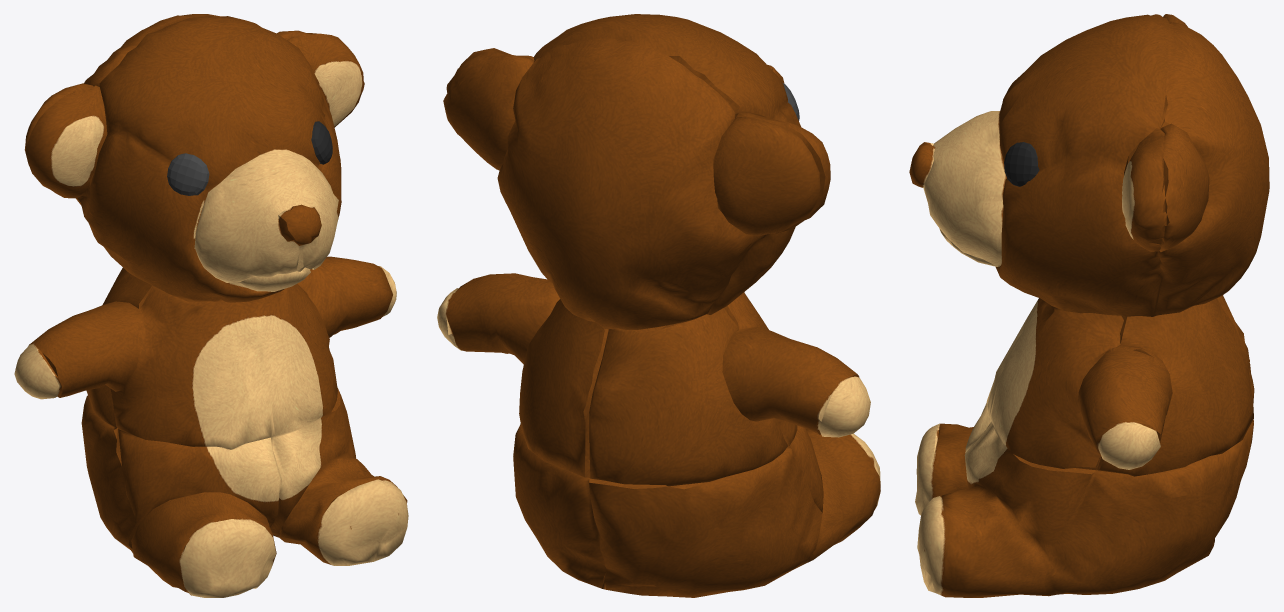
Rendered from obj_teddy_bear_1b99b2.glb.
The picture shows the model from 3 angles, left to right: view 1: azimuth 30°, elevation 25°; view 2: azimuth 150°, elevation 25°; view 3: azimuth 270°, elevation 25°; orthographic projection. The views are drawn at different scales.
Parts seen in each view (by area): view 1: obj_teddy_bear_1b99b2; view 2: obj_teddy_bear_1b99b2; view 3: obj_teddy_bear_1b99b2.
Part boxes in pixels (left/top/right/bottom): obj_teddy_bear_1b99b2: left=14, top=14, right=408, bottom=597; obj_teddy_bear_1b99b2: left=437, top=14, right=880, bottom=597; obj_teddy_bear_1b99b2: left=909, top=14, right=1269, bottom=597.
Size of the model in its own units: 0.3239 by 0.4 by 0.2539.
3 materials, 1 textured.
